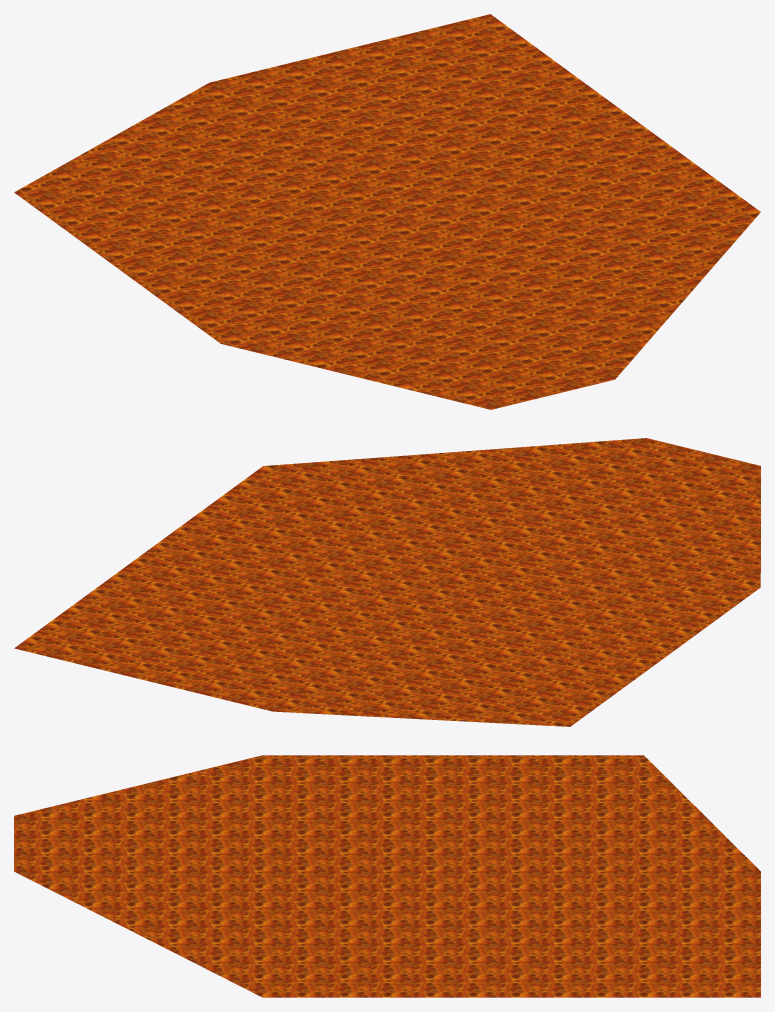
File: water-anim-village3-lava-lod1.glb
3 views of the same model, one above another, from view 1: azimuth 30°, elevation 25°; view 2: azimuth 150°, elevation 25°; view 3: azimuth 270°, elevation 25° (orthographic). The views are drawn at different scales.
Visible parts, largest first — view 1: water-anim-village3-lava-lod1; view 2: water-anim-village3-lava-lod1; view 3: water-anim-village3-lava-lod1.
Boxes of the visible parts, x1,y1,x2,y2 form: water-anim-village3-lava-lod1: (14,14,760,409); water-anim-village3-lava-lod1: (14,438,760,726); water-anim-village3-lava-lod1: (14,755,760,997).
Bounding box in the file's own units: 215 × 0 × 280.
Materials: 1 (1 with a texture image).
